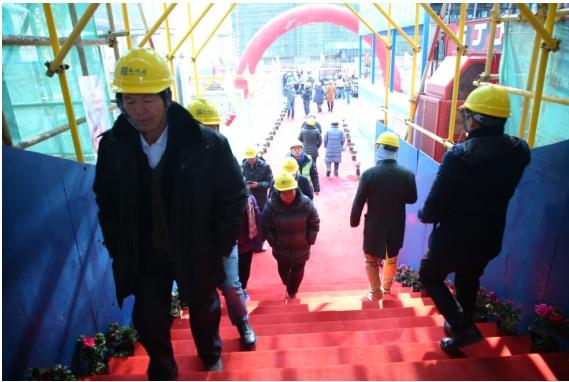white: (288, 139, 303, 158)
yellow: (112, 45, 173, 133), (459, 85, 515, 136), (371, 132, 400, 162), (273, 172, 298, 204), (243, 146, 258, 164)
